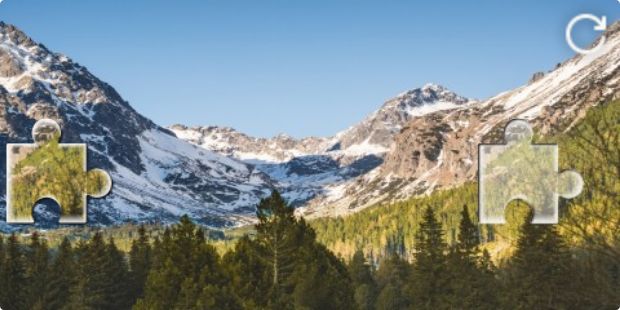target: (479, 120, 583, 224)
